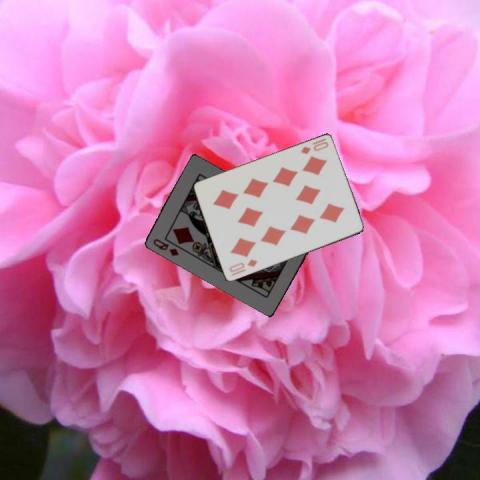10d: (226, 257, 259, 274), (297, 139, 330, 156)
Qd: (150, 236, 181, 258)
